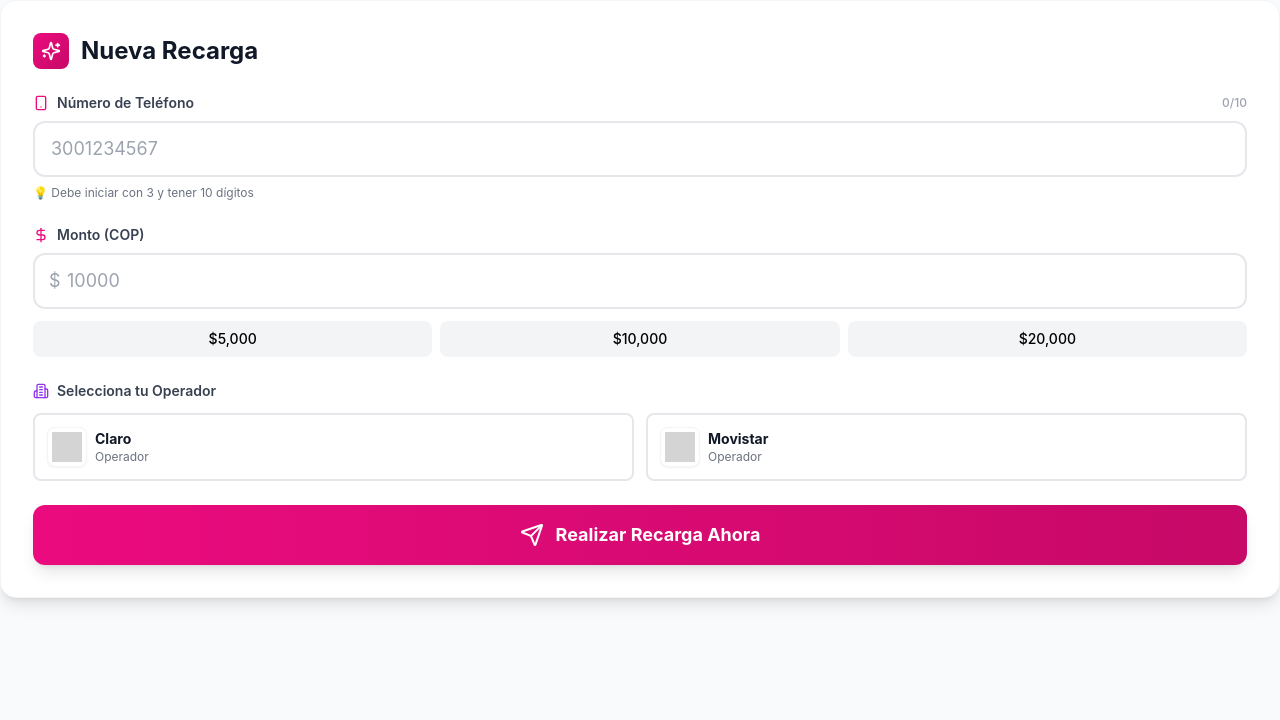
Scenario: RechargeForm › should show validation error for invalid phone number
Expected: the heading "Nueva Recarga" is shown, top-left (81, 35), bottom-right (258, 67)
# Ingresar número inválido (muy corto)
Type "300" into the field labelled "Número de Teléfono 0/10".
click(640, 149); type("300")  # box top-left (33, 121), bottom-right (1247, 177)
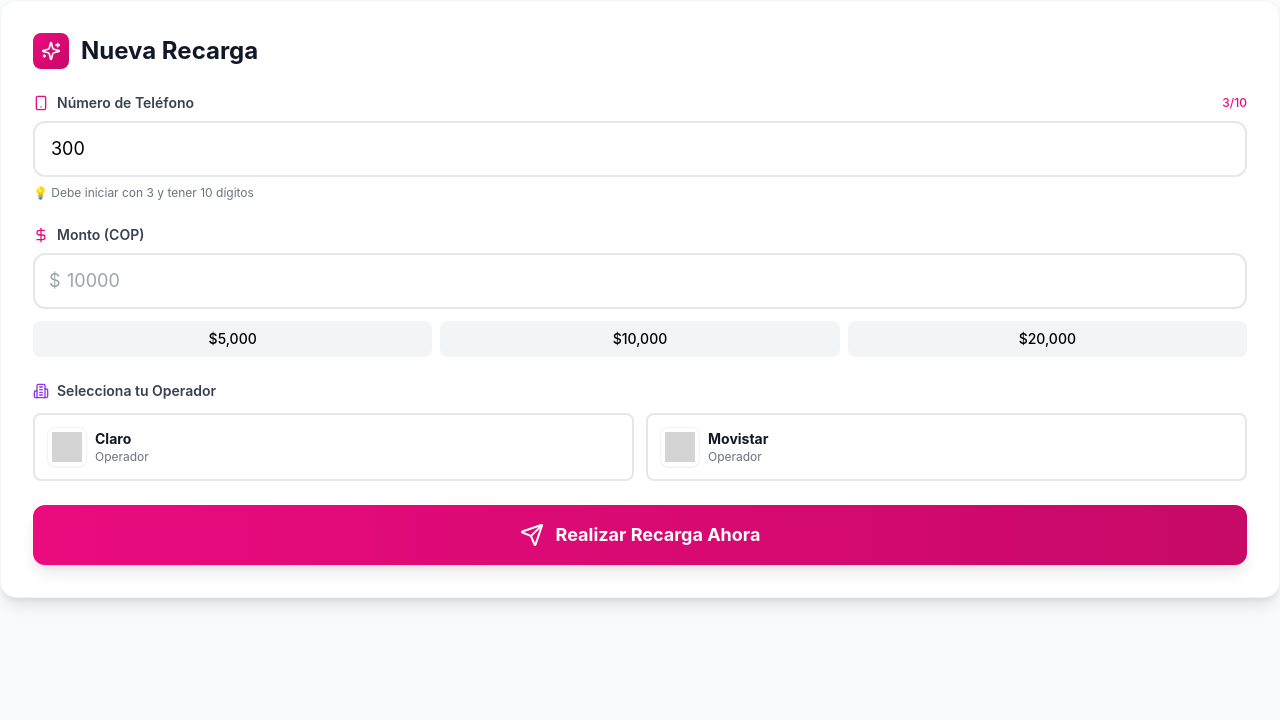
Click the button "Realizar Recarga Ahora".
click(640, 535)  # box top-left (33, 505), bottom-right (1247, 565)
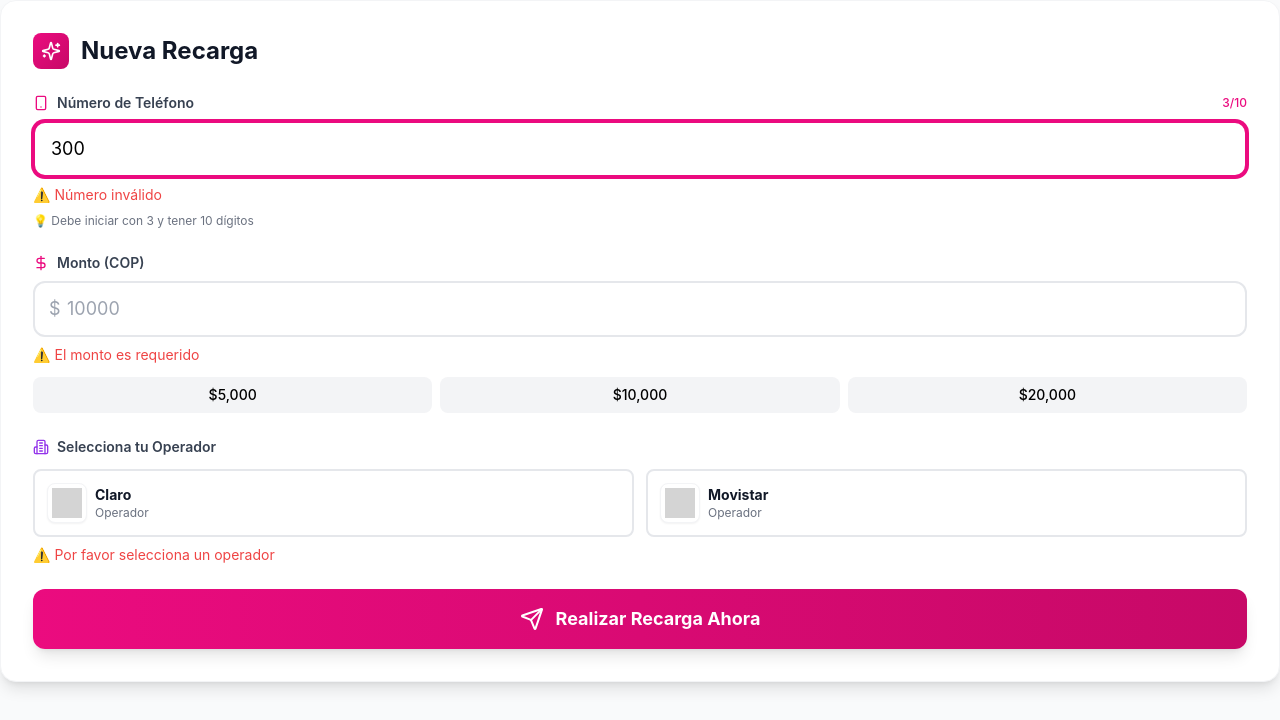
Result: the text "⚠️ Número inválido" is shown at top-left (33, 186), bottom-right (162, 203)
